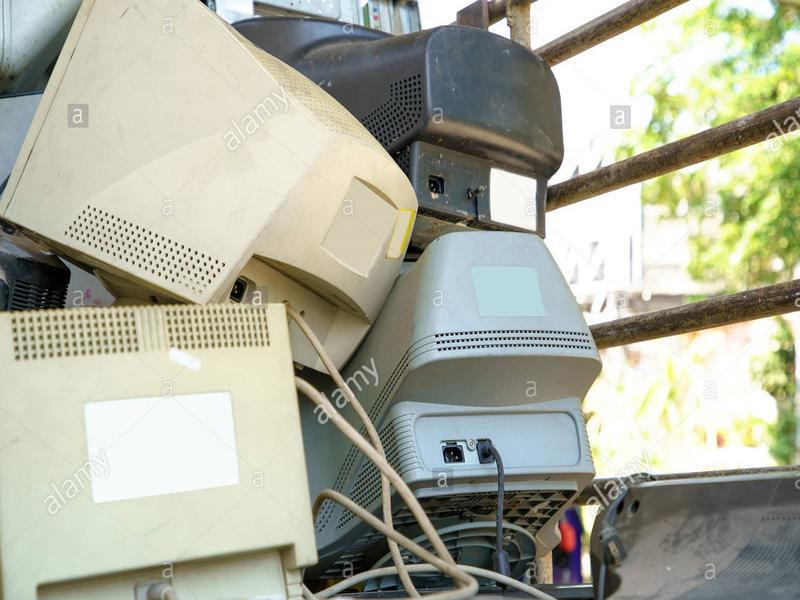tv_pc: (2, 1, 419, 387), (295, 229, 613, 586), (247, 14, 575, 240)
